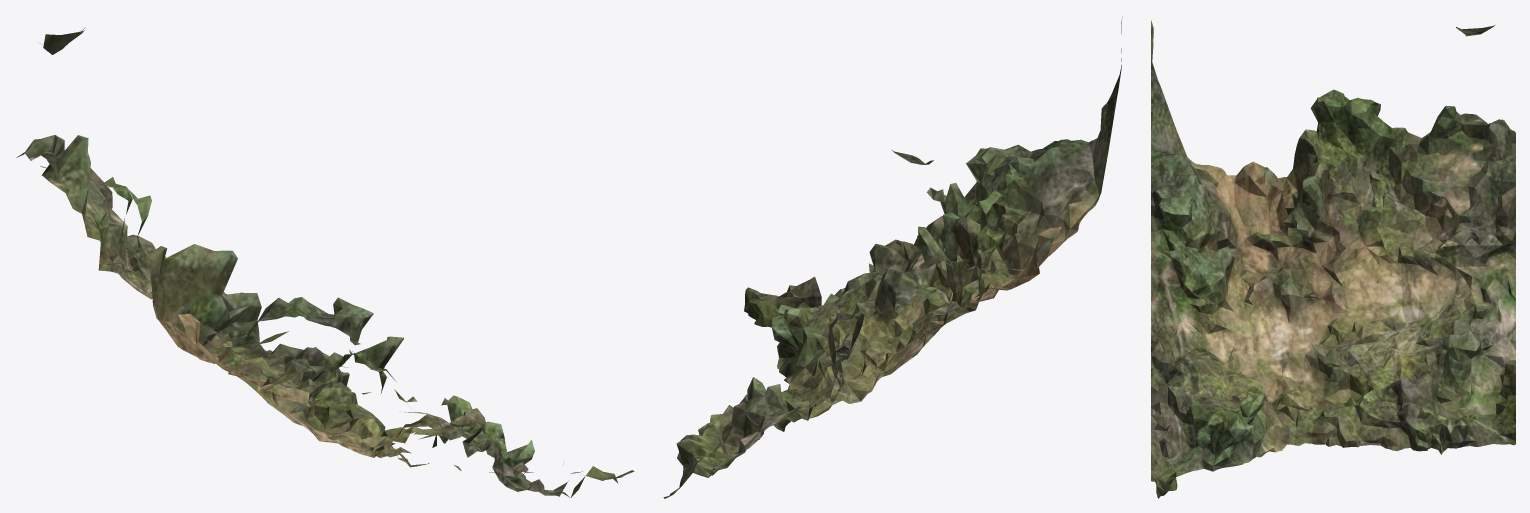
3 views of the same model, side by side, from view 1: azimuth 30°, elevation 25°; view 2: azimuth 150°, elevation 25°; view 3: azimuth 270°, elevation 25° (orthographic). The views are drawn at different scales.
Size of the model in its own units: 11.8 by 11.8 by 11.8.
4 materials, 4 textured.
